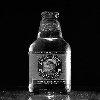beer: (28, 10, 78, 95)
